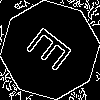E: (25, 25, 81, 79)
